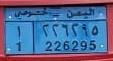city: (6, 23, 32, 54)
number: (33, 21, 108, 53)
text: (5, 7, 107, 21)
